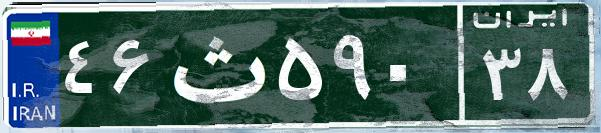0: (385, 28, 445, 110)
3: (475, 38, 525, 113)
4: (57, 26, 110, 107)
5: (273, 28, 330, 110)
6: (110, 28, 158, 105)
8: (525, 38, 570, 115)
9: (330, 28, 385, 110)
ث: (158, 15, 273, 115)
